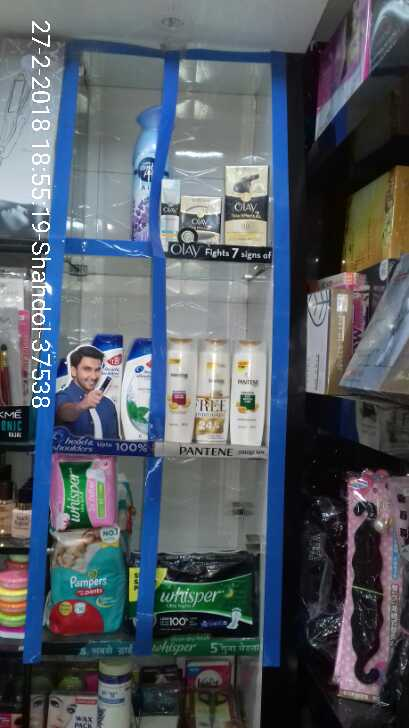ambipureVesus: (129, 102, 172, 243)
